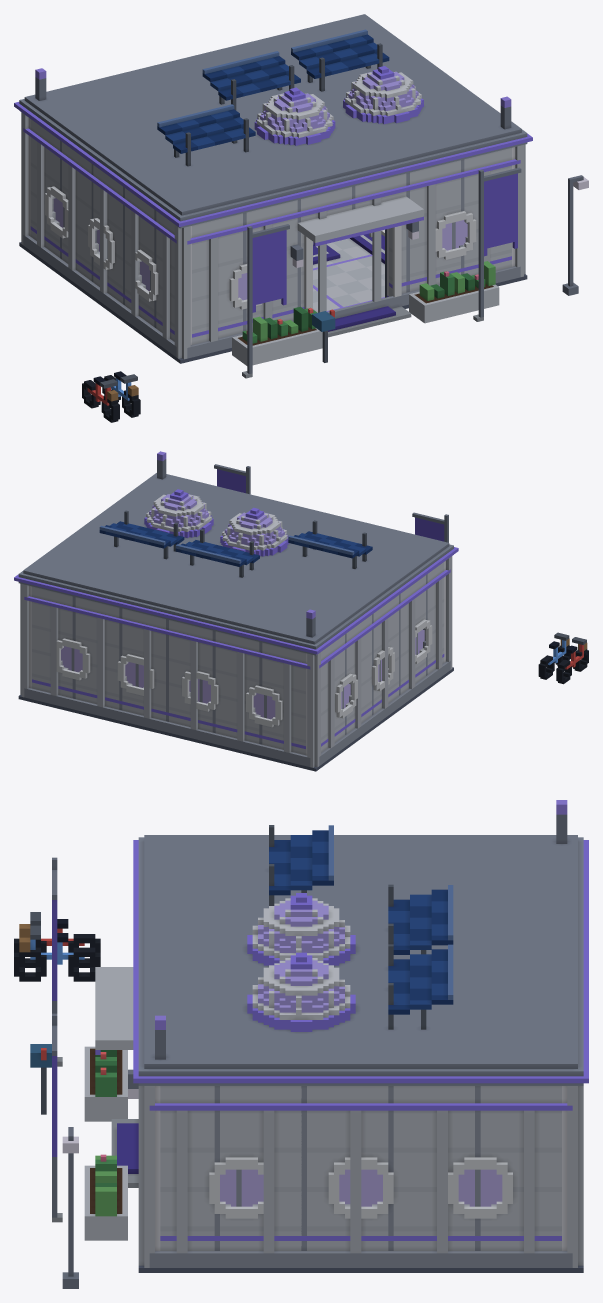
3 views of the same model, one above another, from view 1: azimuth 30°, elevation 25°; view 2: azimuth 150°, elevation 25°; view 3: azimuth 270°, elevation 25° (orthographic). The views are drawn at different scales.
Parts seen in each view (by area): view 1: CutRoof, Base, CutPZ, CutNX, CutNZ; view 2: CutRoof, CutNZ, Base, CutNX, CutPZ; view 3: CutRoof, CutPX, Base, CutPZ, CutNZ.
Part boxes in pixels (<box>): CutRoof: <box>14,14,532,228</box>; Base: <box>19,167,588,422</box>; CutPZ: <box>174,144,525,327</box>; CutNX: <box>23,119,176,320</box>; CutNZ: <box>21,112,30,214</box>; CutRoof: <box>14,451,458,655</box>; CutNZ: <box>20,583,320,740</box>; Base: <box>18,464,588,771</box>; CutNX: <box>319,562,450,734</box>; CutPZ: <box>444,556,452,643</box>; CutRoof: <box>133,800,588,1085</box>; CutPX: <box>149,1086,572,1223</box>; Base: <box>14,857,583,1288</box>; CutPZ: <box>95,967,160,1223</box>; CutNZ: <box>562,1086,583,1223</box>.
Size of the model in its own units: 14.6 by 5.3 by 10.6.
